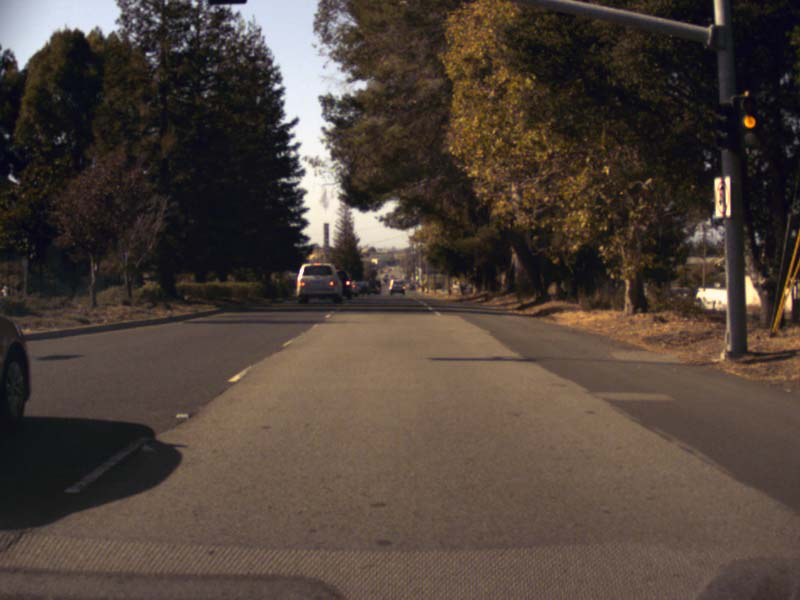Yellow: (737, 98, 763, 150)
